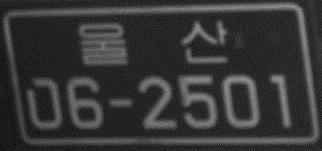-: (107, 97, 134, 110)
0: (221, 73, 261, 130), (25, 75, 62, 132)
1: (267, 72, 293, 130)
2: (137, 74, 177, 131)
5: (178, 74, 219, 131)
6: (66, 74, 102, 131)
울산_D: (76, 18, 229, 67)
